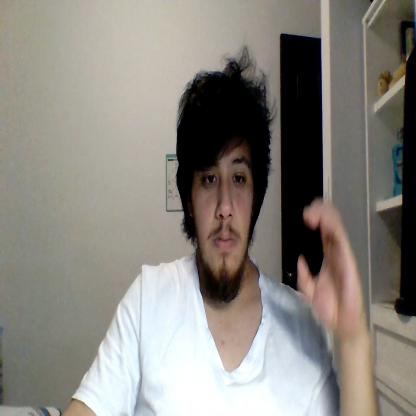C: (299, 197, 363, 332)
